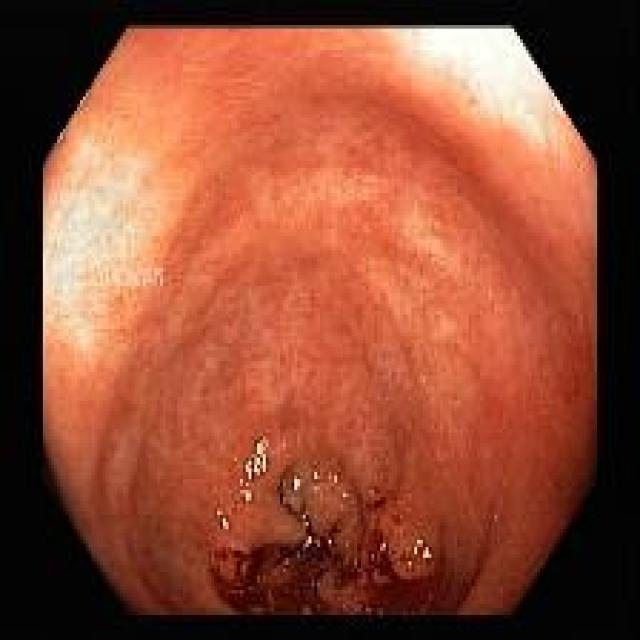ulcerative-colitis: (40, 28, 598, 614)
